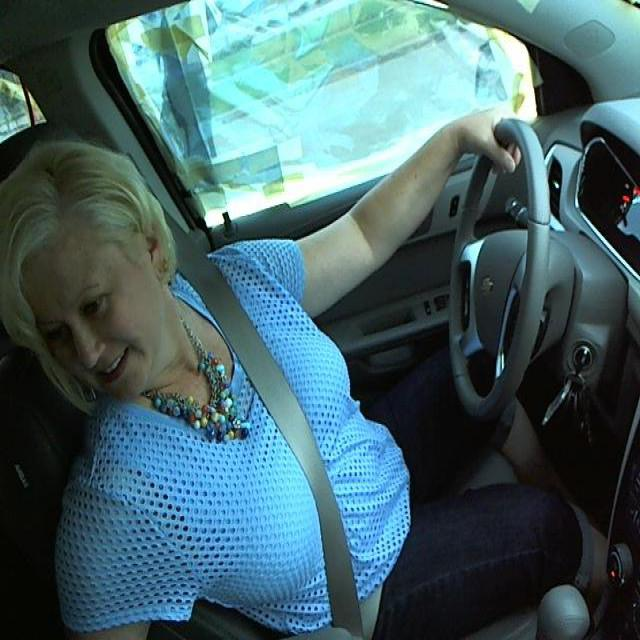seatbelt: (190, 276, 386, 637)
